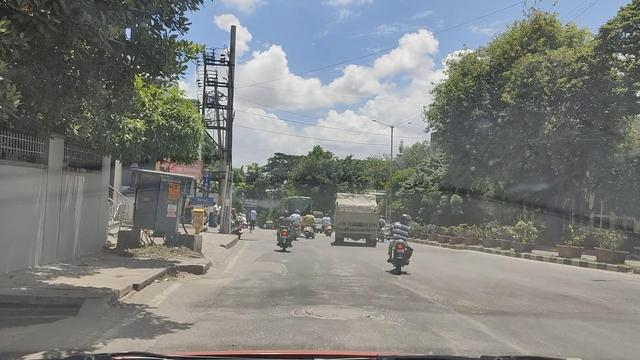HMV: (329, 191, 384, 249), (283, 195, 316, 239)
RoadDamages: (288, 294, 383, 329)
